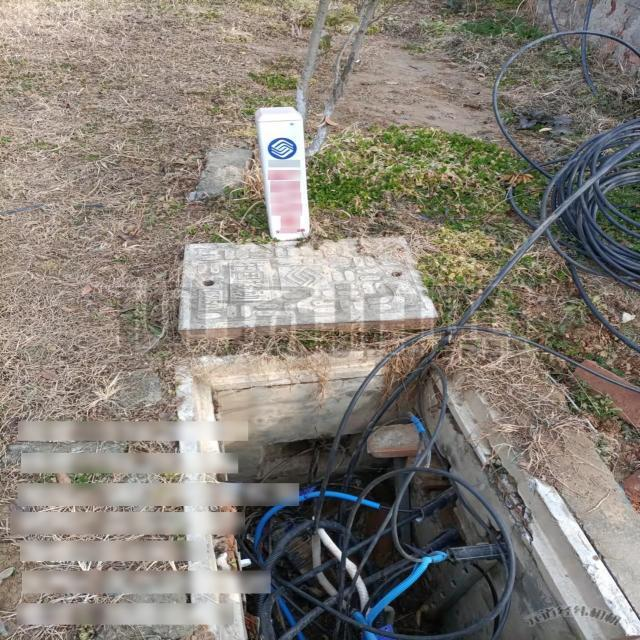Faulty: (170, 348, 636, 640)
